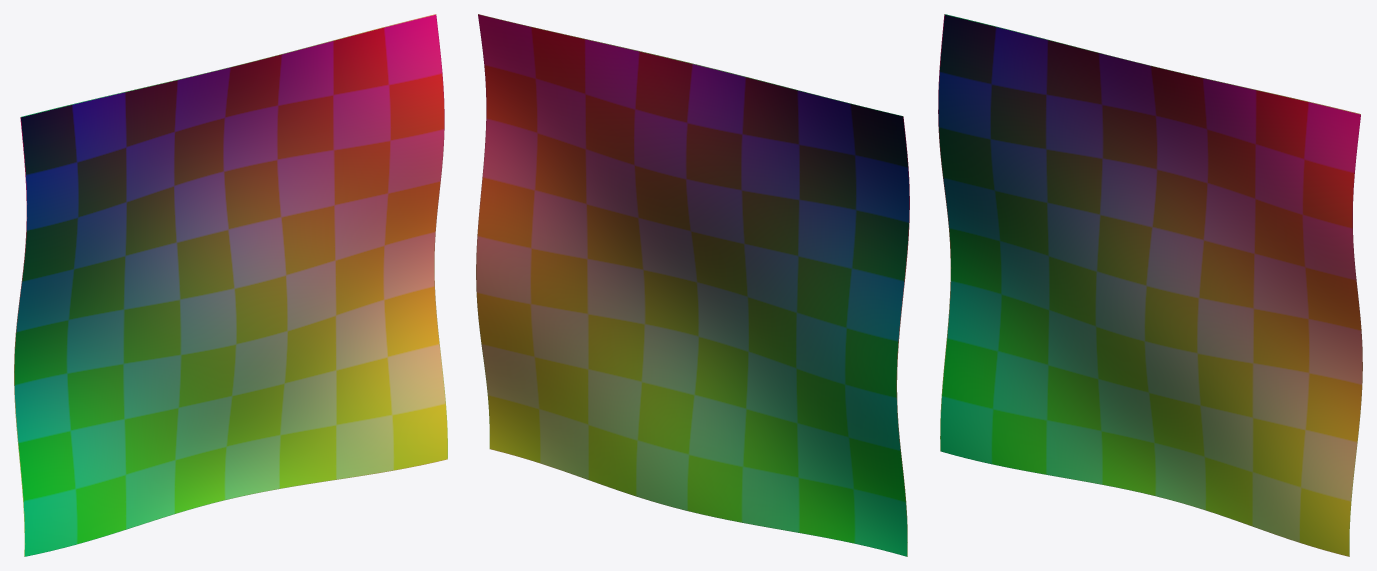
The model's file is Tile_+030_+005.obj.
3 views of the same model, side by side, from view 1: azimuth 30°, elevation 25°; view 2: azimuth 150°, elevation 25°; view 3: azimuth 330°, elevation 25° (orthographic). The views are drawn at different scales.
Size of the model in its own units: 100 by 100 by 6.87.
